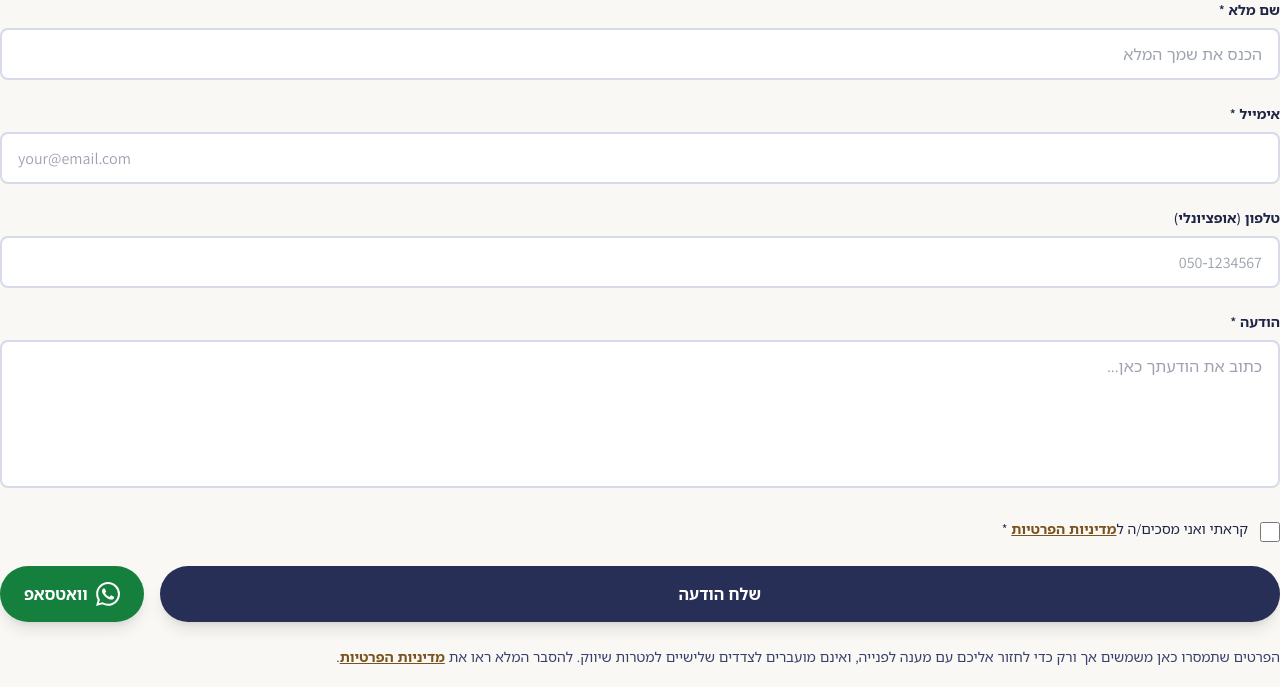
it: ContactForm Component › validates phone number format
The image size is (1280, 687).
In the field labelled "טלפון (אופציונלי)": (640, 262) [0, 236, 1279, 288], type "123"
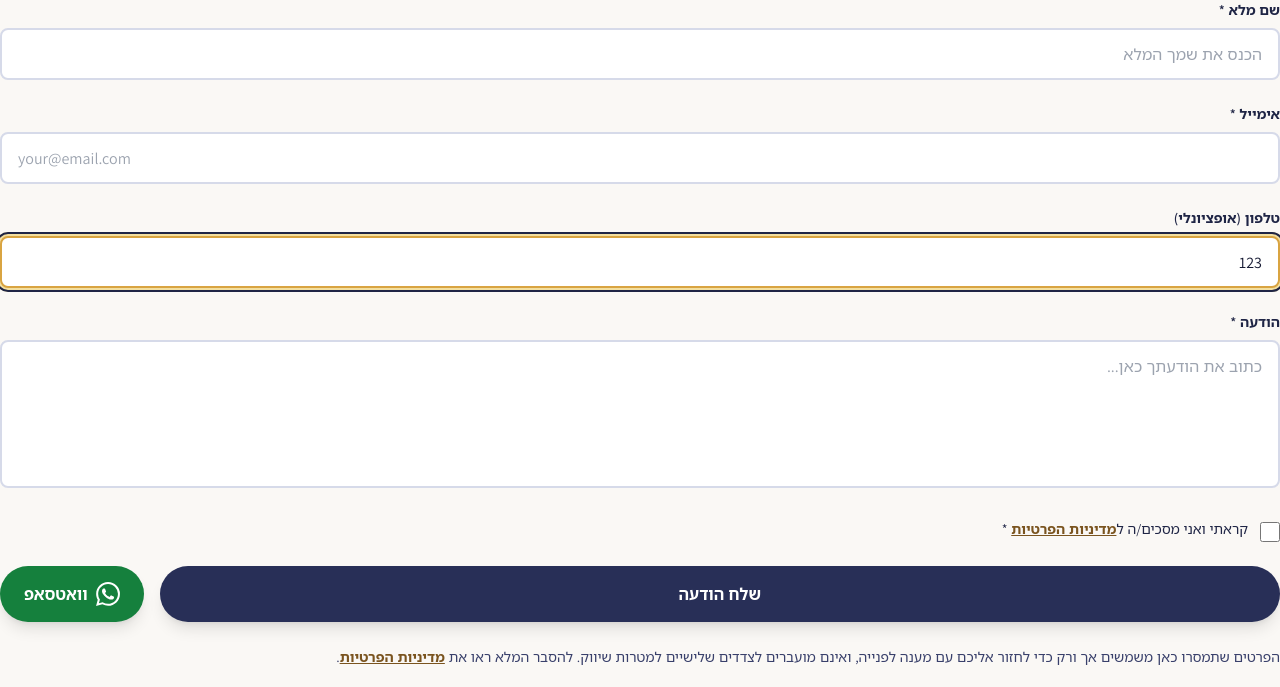
Click the button "שלח הודעה": click(720, 594) [160, 566, 1279, 622]
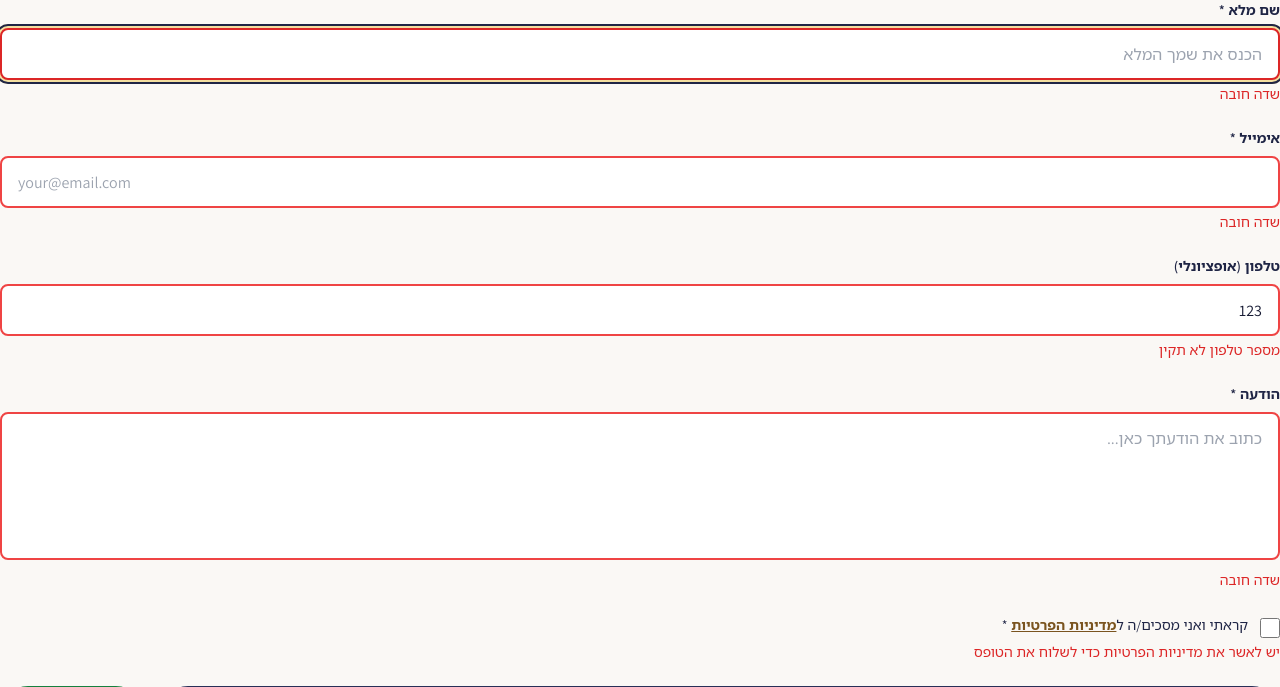
expect the text "מספר טלפון לא תקין" is shown: met, box [1159, 340, 1279, 359]
